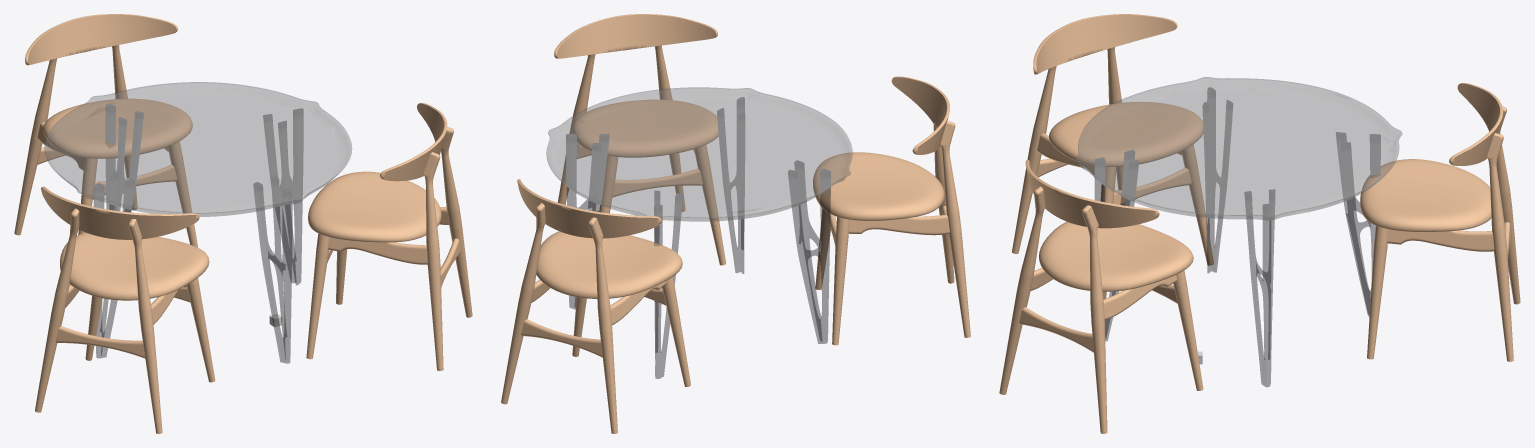
Rendered from 1775668119177_tablesandchair.glb.
3 views of the same model, side by side, from view 1: azimuth 30°, elevation 25°; view 2: azimuth 150°, elevation 25°; view 3: azimuth 270°, elevation 25° (orthographic). The views are drawn at different scales.
Parts seen in each view (by area): view 1: Provisione_table_001, Provisione_table_002, Provisione_table_068, Provisione_table_090, Provisione_table_079, Provisione_table_077, Provisione_table_088, Provisione_table_060, Provisione_table_087, Provisione_table_082, Provisione_table_065, Provisione_table_076 (+11 smaller); view 2: Provisione_table_001, Provisione_table_002, Provisione_table_090, Provisione_table_079, Provisione_table_068, Provisione_table_066, Provisione_table_077, Provisione_table_076, Provisione_table_082, Provisione_table_071, Provisione_table_088, Provisione_table_084 (+12 smaller); view 3: Provisione_table_001, Provisione_table_002, Provisione_table_079, Provisione_table_068, Provisione_table_090, Provisione_table_088, Provisione_table_066, Provisione_table_065, Provisione_table_071, Provisione_table_060, Provisione_table_077, Provisione_table_087 (+10 smaller).
Boxes of the visible parts, x1,y1,x2,y2 form: Provisione_table_001: [44, 82, 351, 216]; Provisione_table_002: [94, 104, 303, 363]; Provisione_table_068: [308, 171, 441, 242]; Provisione_table_090: [60, 232, 209, 300]; Provisione_table_079: [43, 98, 192, 158]; Provisione_table_077: [25, 14, 177, 65]; Provisione_table_088: [41, 186, 199, 239]; Provisione_table_060: [423, 152, 443, 370]; Provisione_table_087: [128, 219, 162, 433]; Provisione_table_082: [35, 208, 79, 412]; Provisione_table_065: [441, 127, 472, 317]; Provisione_table_076: [14, 58, 57, 235]; Provisione_table_001: [546, 87, 852, 221]; Provisione_table_002: [566, 97, 830, 378]; Provisione_table_090: [813, 152, 944, 220]; Provisione_table_079: [536, 231, 682, 298]; Provisione_table_068: [573, 99, 718, 157]; Provisione_table_066: [554, 14, 717, 58]; Provisione_table_077: [517, 179, 661, 238]; Provisione_table_076: [588, 217, 617, 433]; Provisione_table_082: [940, 121, 970, 337]; Provisione_table_071: [501, 203, 545, 404]; Provisione_table_088: [891, 76, 949, 154]; Provisione_table_084: [848, 214, 949, 235]; Provisione_table_001: [1075, 77, 1402, 220]; Provisione_table_002: [1095, 87, 1380, 386]; Provisione_table_079: [1360, 159, 1491, 231]; Provisione_table_068: [1039, 221, 1193, 291]; Provisione_table_090: [1049, 102, 1203, 166]; Provisione_table_088: [1033, 14, 1177, 74]; Provisione_table_066: [1025, 160, 1159, 228]; Provisione_table_065: [1081, 205, 1107, 433]; Provisione_table_071: [1487, 133, 1513, 361]; Provisione_table_060: [999, 186, 1045, 394]; Provisione_table_077: [1449, 83, 1503, 165]; Provisione_table_087: [1012, 66, 1056, 253].
Bounding box in the file's own units: 108 × 51.73 × 109.
